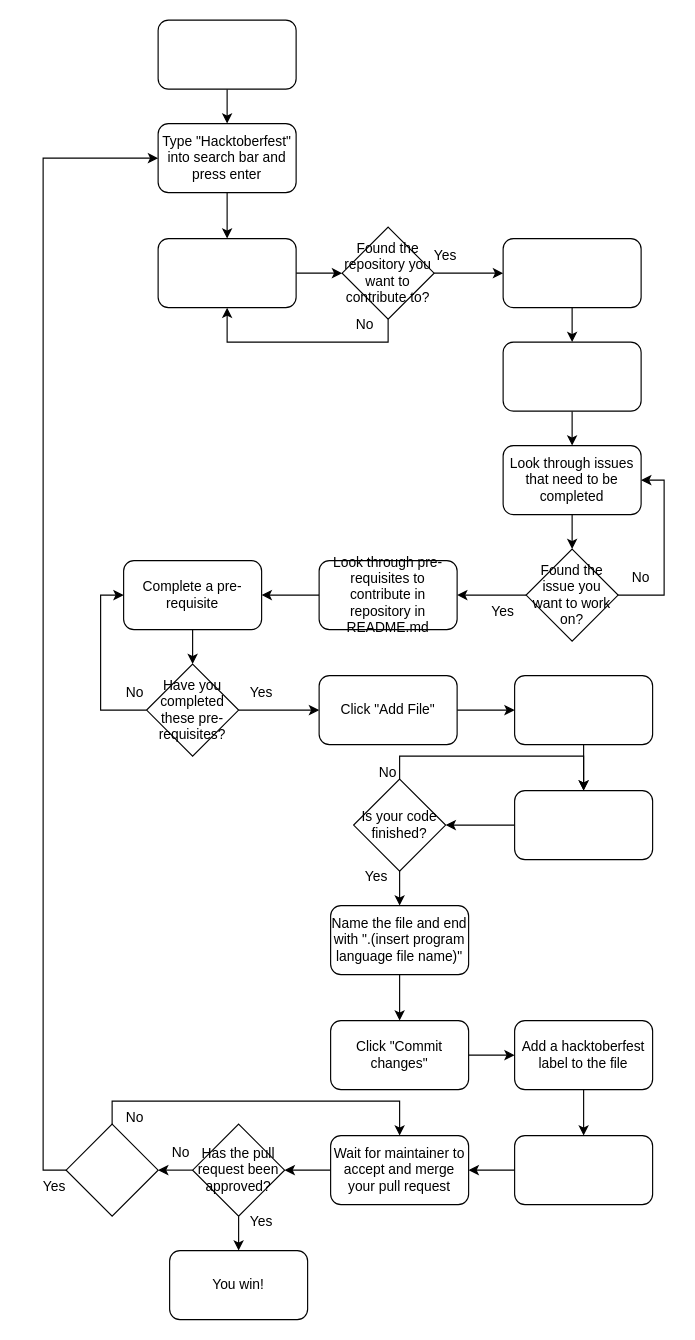
Image size: 695x1340. Some labels were removed from this diagram. The shapes that lost their labels are listed below. From the top down, each one's centre as x and y in pixels, then its label:
point (226, 54): Log into GitHub
point (226, 272): scroll through repositories participating in Hacktoberfest
point (571, 272): Fork the repository by making new hacktoberfest repository branch
point (571, 376): Go to "Issues" tab within repository
point (583, 709): Create a new file for your code
point (583, 824): Write a line of code
point (111, 1169): Has the pull request been excluded?
point (583, 1169): Send a pull request
